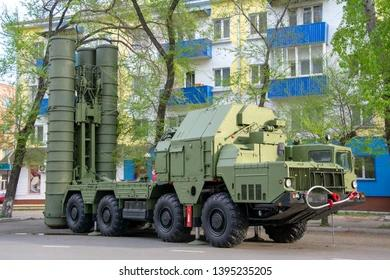MIL_SAM_TEL: (41, 31, 364, 243)
